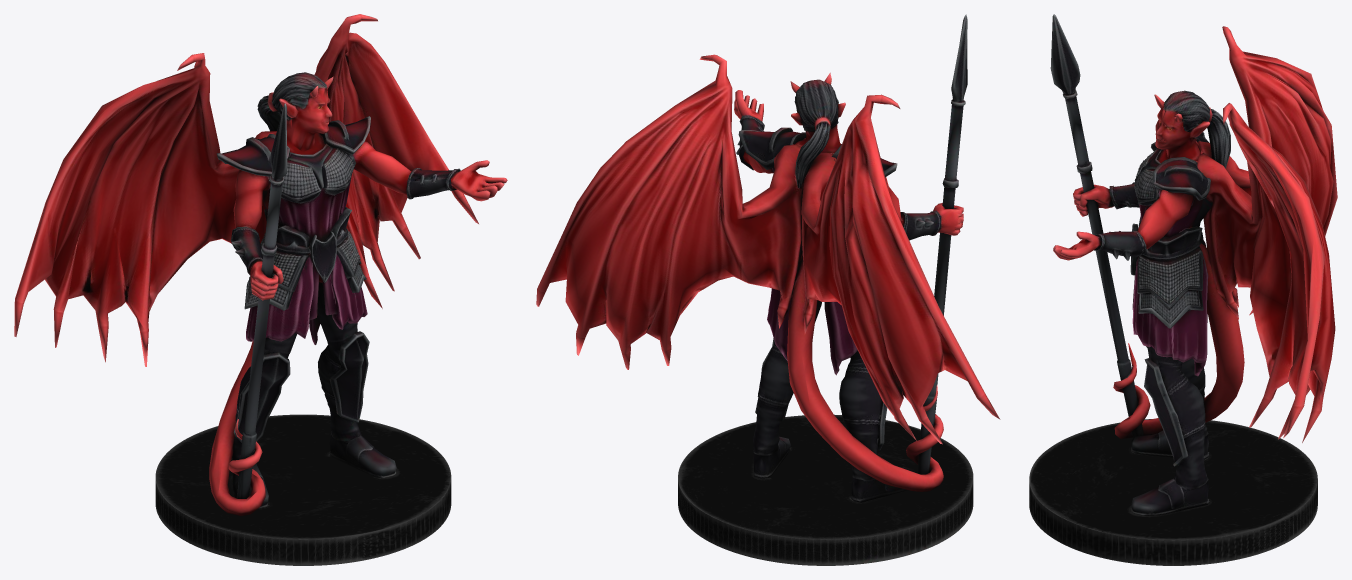
File: MZ4250 - Cambion.glb
The picture shows the model from 3 angles, left to right: view 1: azimuth 30°, elevation 25°; view 2: azimuth 150°, elevation 25°; view 3: azimuth 270°, elevation 25°; orthographic projection. The views are drawn at different scales.
Parts seen in each view (by area): view 1: wing_low.001, body_low.001, base_low.001, spear_low.001; view 2: wing_low.001, base_low.001, body_low.001, spear_low.001; view 3: body_low.001, wing_low.001, base_low.001, spear_low.001.
Boxes of the visible parts, <box> form: wing_low.001: <box>14,14,478,366</box>; body_low.001: <box>209,72,507,516</box>; base_low.001: <box>155,414,451,565</box>; spear_low.001: <box>237,103,287,498</box>; wing_low.001: <box>536,54,1000,444</box>; base_low.001: <box>678,414,973,565</box>; body_low.001: <box>734,72,963,502</box>; spear_low.001: <box>917,14,967,474</box>; body_low.001: <box>1053,90,1244,515</box>; wing_low.001: <box>1197,26,1337,442</box>; base_low.001: <box>1029,419,1317,565</box>; spear_low.001: <box>1050,14,1143,438</box>.
Bounding box in the file's own units: 6.38 × 6.1 × 3.76.
Materials: 1 (1 with a texture image).
